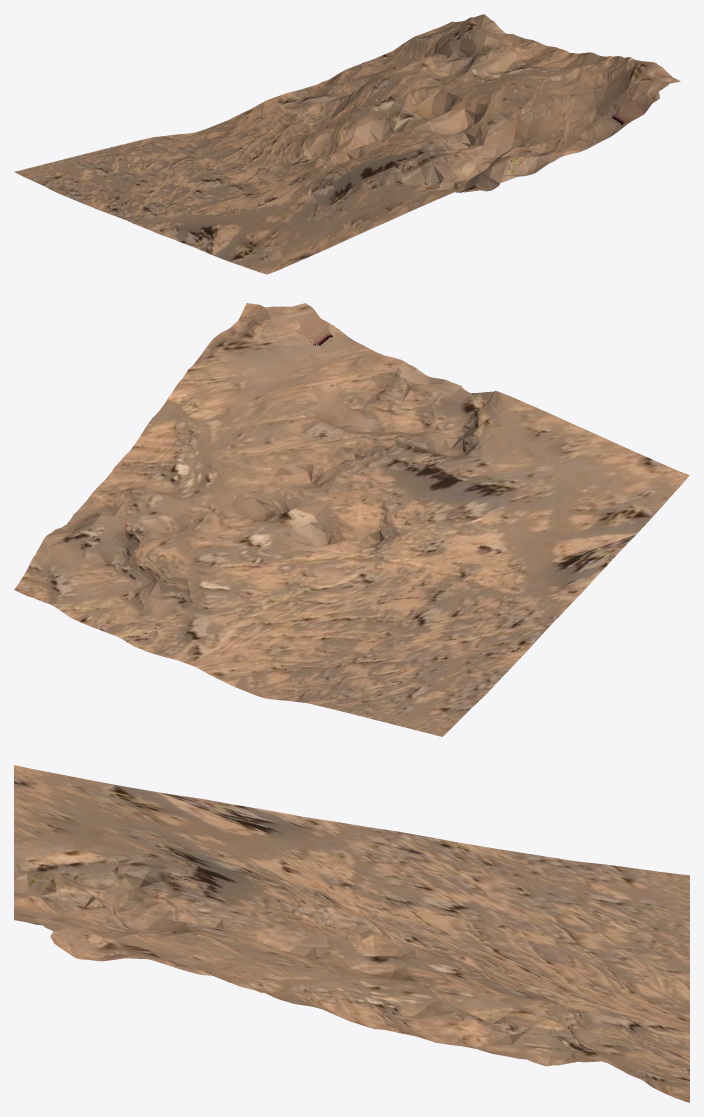
3 renders of one model, top to bottom at view 1: azimuth 30°, elevation 25°; view 2: azimuth 150°, elevation 25°; view 3: azimuth 270°, elevation 25°, orthographic. The views are drawn at different scales.
Bounding box in the file's own units: 1.04 × 0.3813 × 1.04.
Materials: 2 (2 with a texture image).
